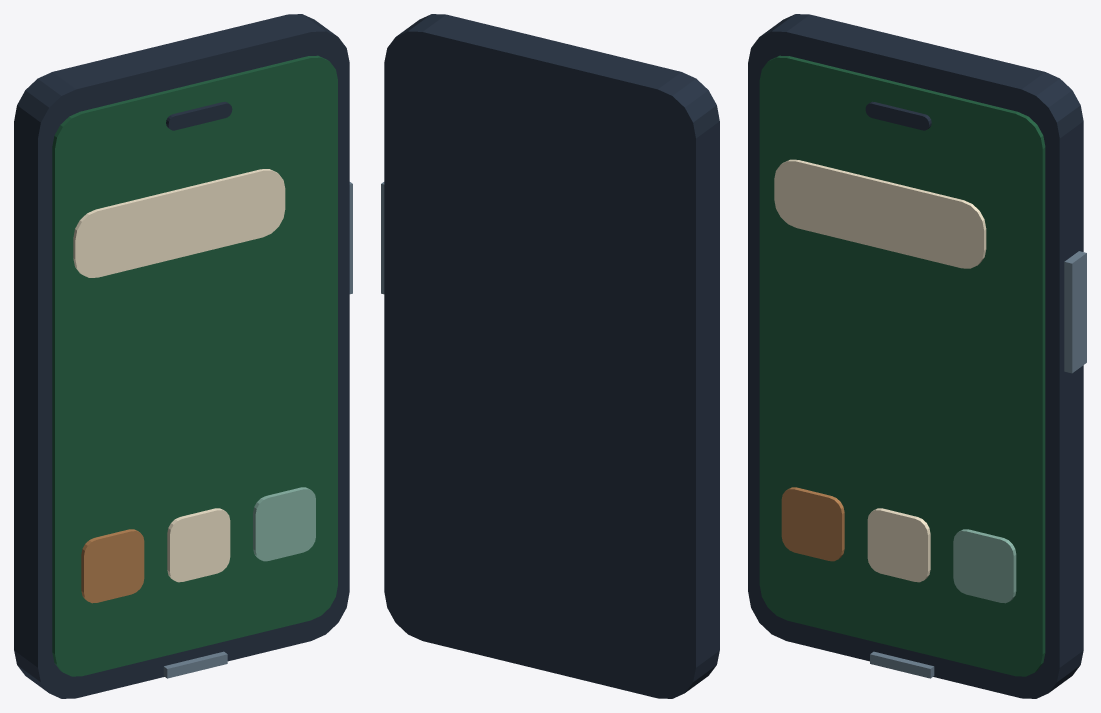
File: phone.glb
3 views of the same model, side by side, from view 1: azimuth 30°, elevation 25°; view 2: azimuth 150°, elevation 25°; view 3: azimuth 330°, elevation 25° (orthographic).
Visible parts, largest first — view 1: screen, case, widget, app 1, app 0, app 2, earpiece, port; view 2: case; view 3: screen, case, widget, app 0, app 1, app 2, side switch, earpiece, port.
Part boxes in pixels (x1=…): screen: x1=52, y1=55, x2=337, y2=676; case: x1=14, y1=14, x2=349, y2=698; widget: x1=73, y1=169, x2=285, y2=277; app 1: x1=167, y1=508, x2=230, y2=582; app 0: x1=81, y1=529, x2=144, y2=603; app 2: x1=253, y1=487, x2=315, y2=561; earpiece: x1=166, y1=101, x2=232, y2=130; port: x1=163, y1=651, x2=227, y2=678; case: x1=384, y1=14, x2=719, y2=698; screen: x1=759, y1=55, x2=1045, y2=676; case: x1=748, y1=14, x2=1083, y2=698; widget: x1=774, y1=159, x2=986, y2=268; app 0: x1=781, y1=487, x2=844, y2=561; app 1: x1=867, y1=508, x2=930, y2=582; app 2: x1=953, y1=529, x2=1016, y2=603; side switch: x1=1064, y1=251, x2=1086, y2=373; earpiece: x1=865, y1=101, x2=931, y2=130; port: x1=870, y1=651, x2=934, y2=678.
Size of the model in its own units: 1 by 1.83 by 0.166.
